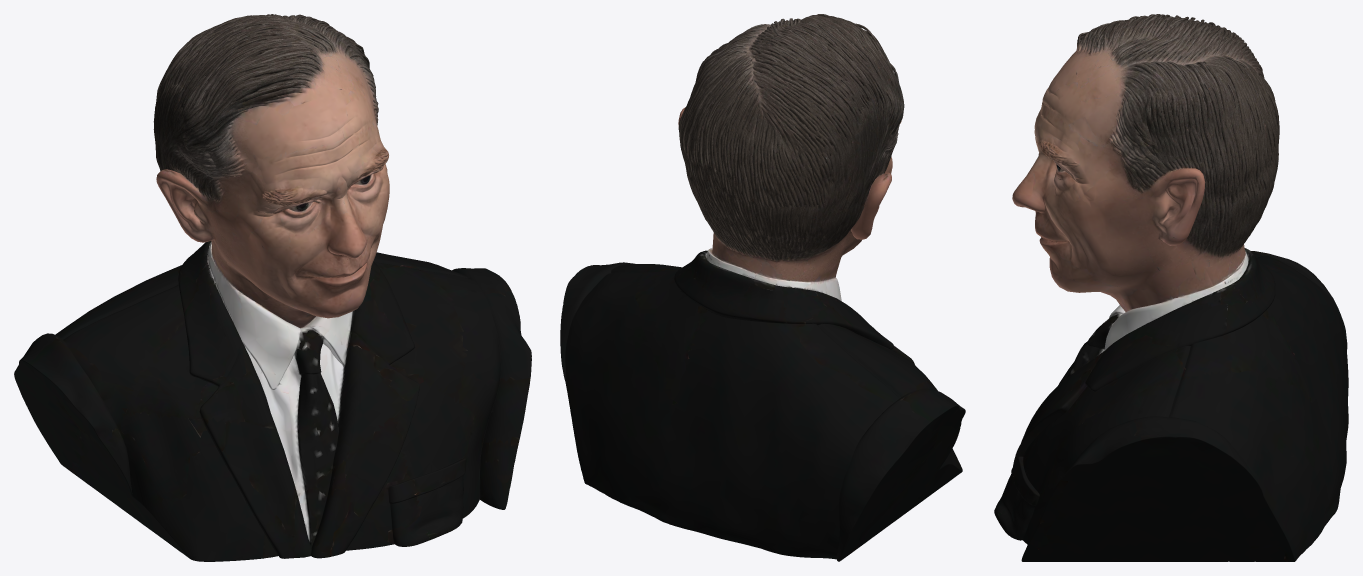
3 views of the same model, side by side, from view 1: azimuth 30°, elevation 25°; view 2: azimuth 150°, elevation 25°; view 3: azimuth 270°, elevation 25° (orthographic). The views are drawn at different scales.
Bounding box in the file's own units: 1.78 × 1.9 × 1.33.
1 material, 1 textured.
